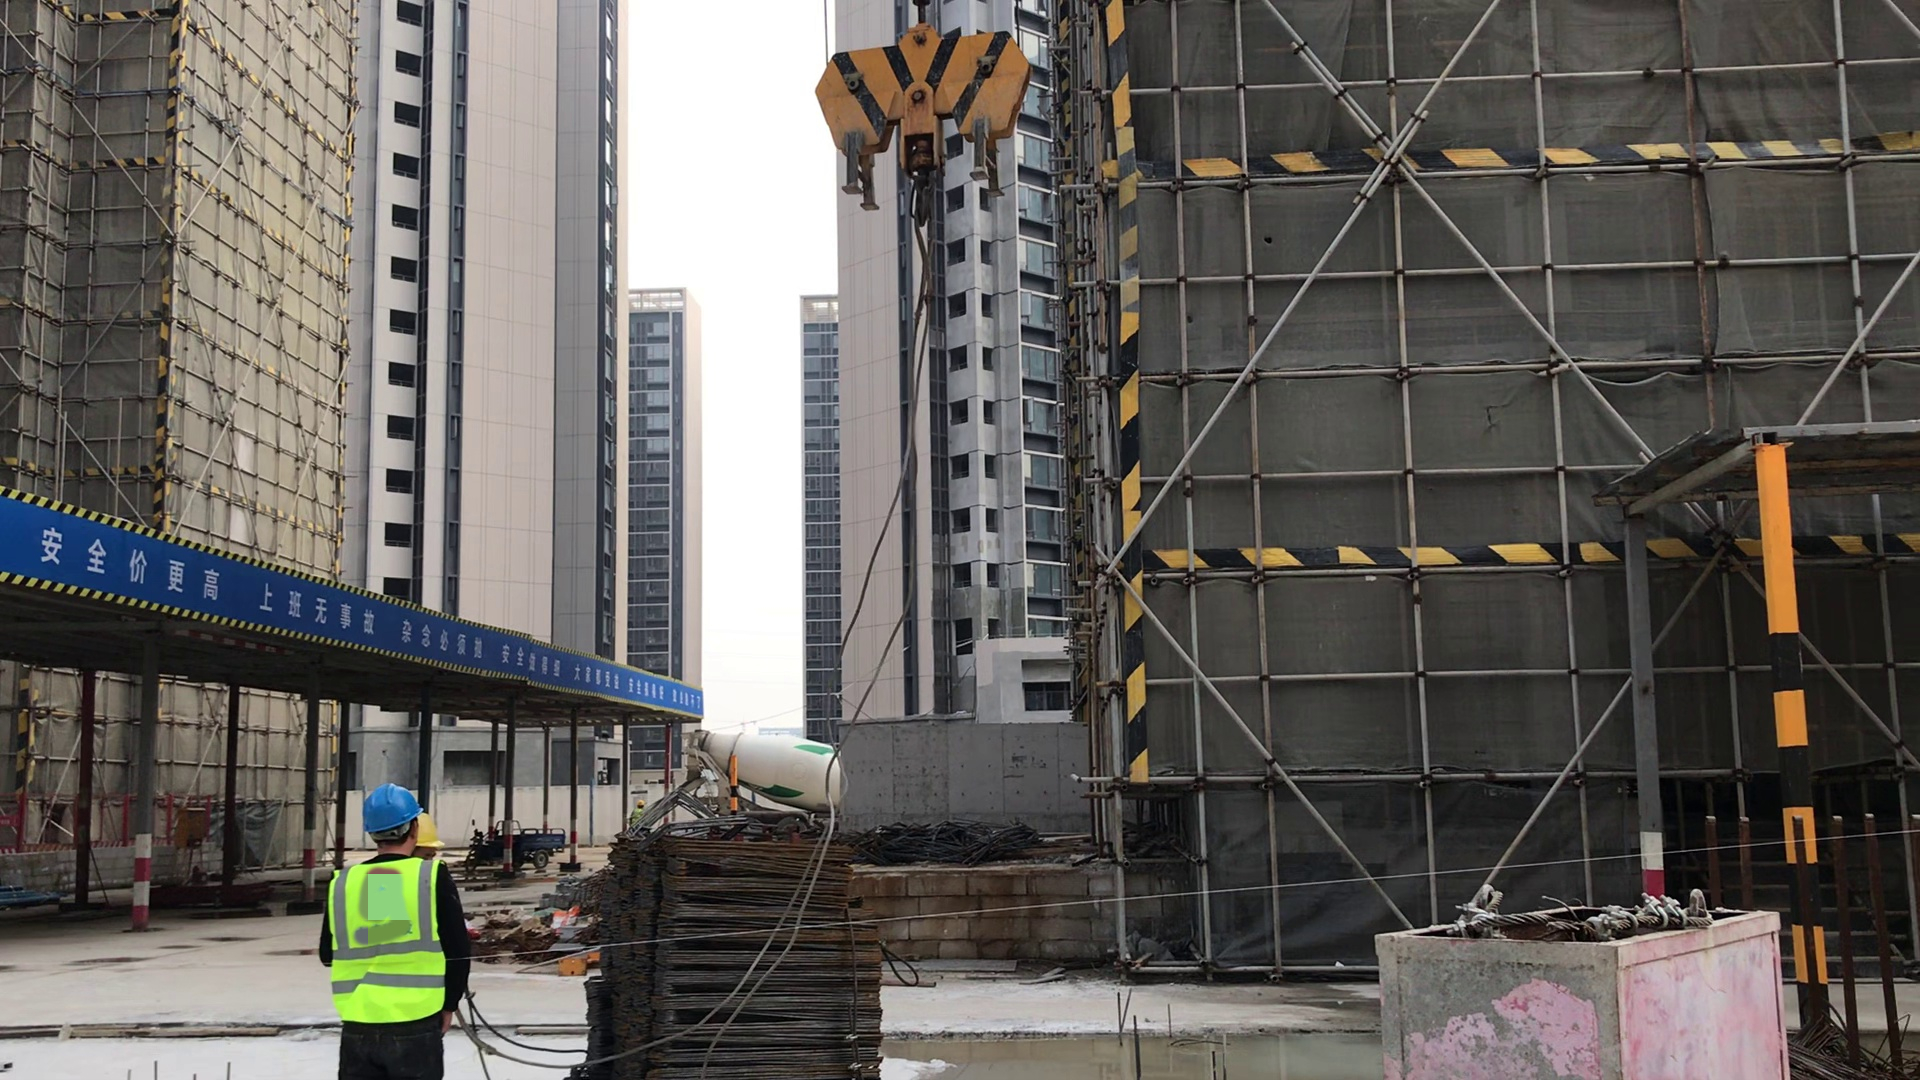helmet: (358, 779, 421, 830)
hook: (811, 17, 1031, 200)
person: (315, 787, 474, 1080)
slogan: (11, 498, 709, 717)
vest: (325, 859, 452, 1022)
